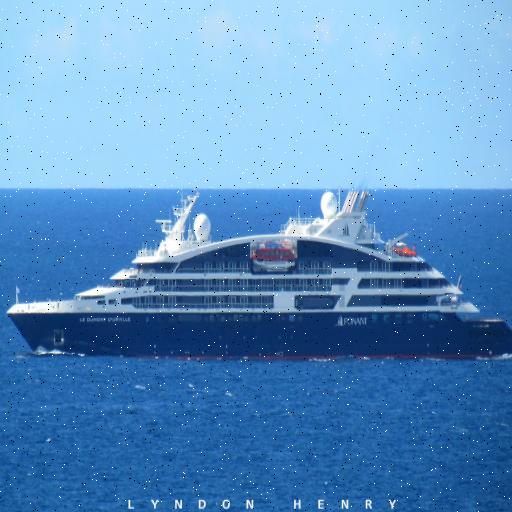cruises: (8, 188, 512, 373)
